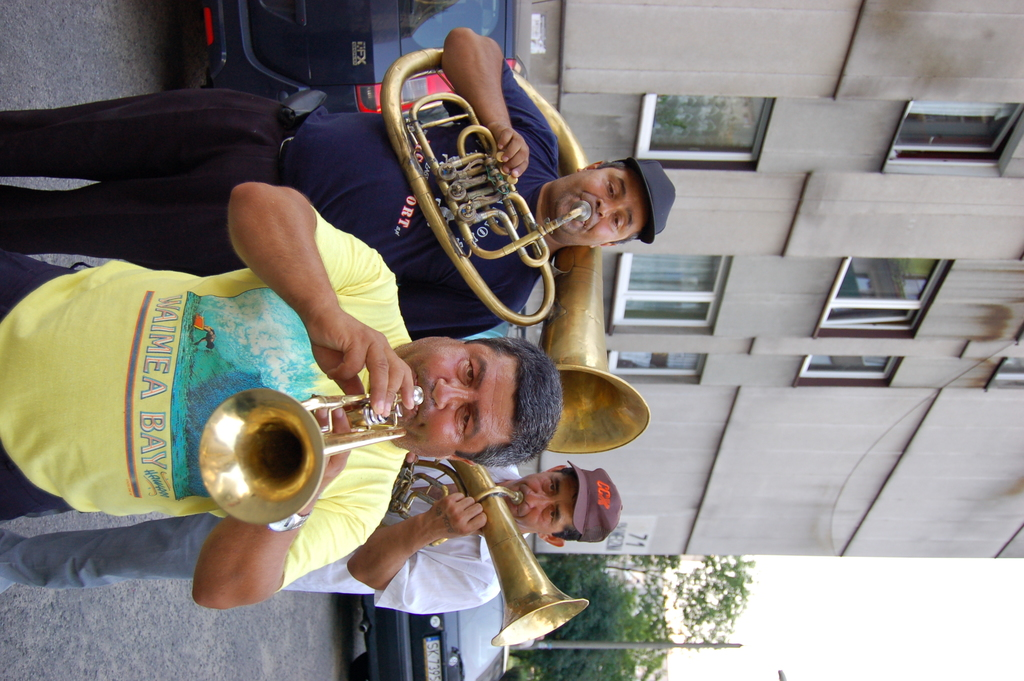face: (537, 168, 652, 246)
